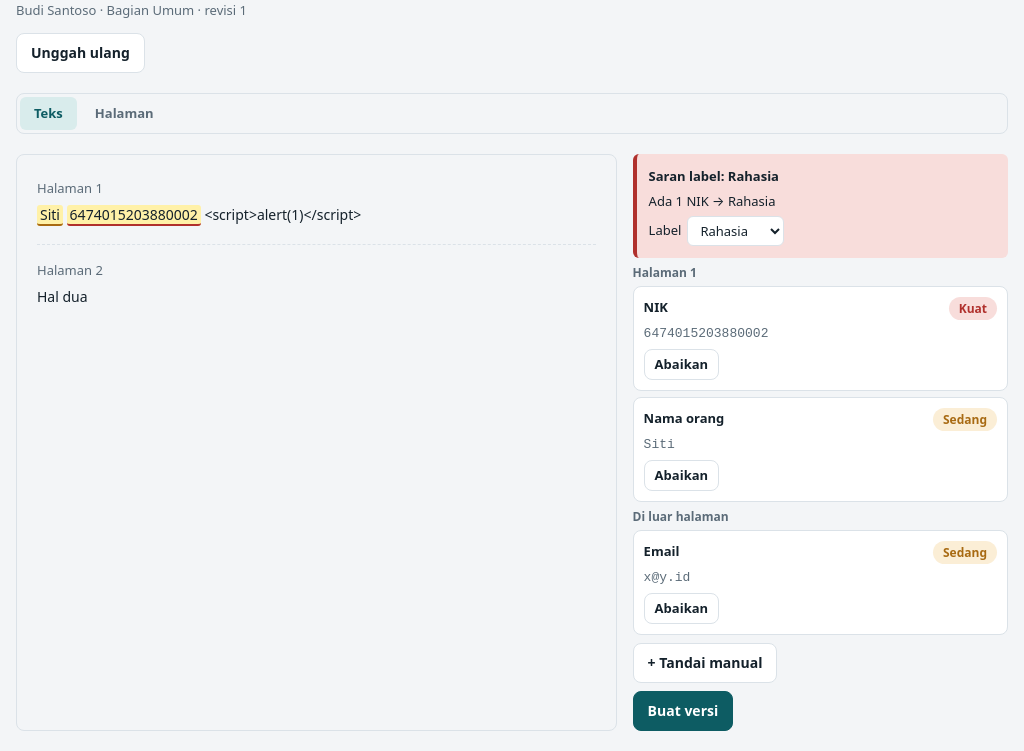
Test: manual add prefilled from selection
(page scrolled)
Expected: the text "Hal dua" is shown, [37,287,88,306]
Click the button "+ Tandai manual": (705, 663) [633,643,777,683]
(page scrolled)
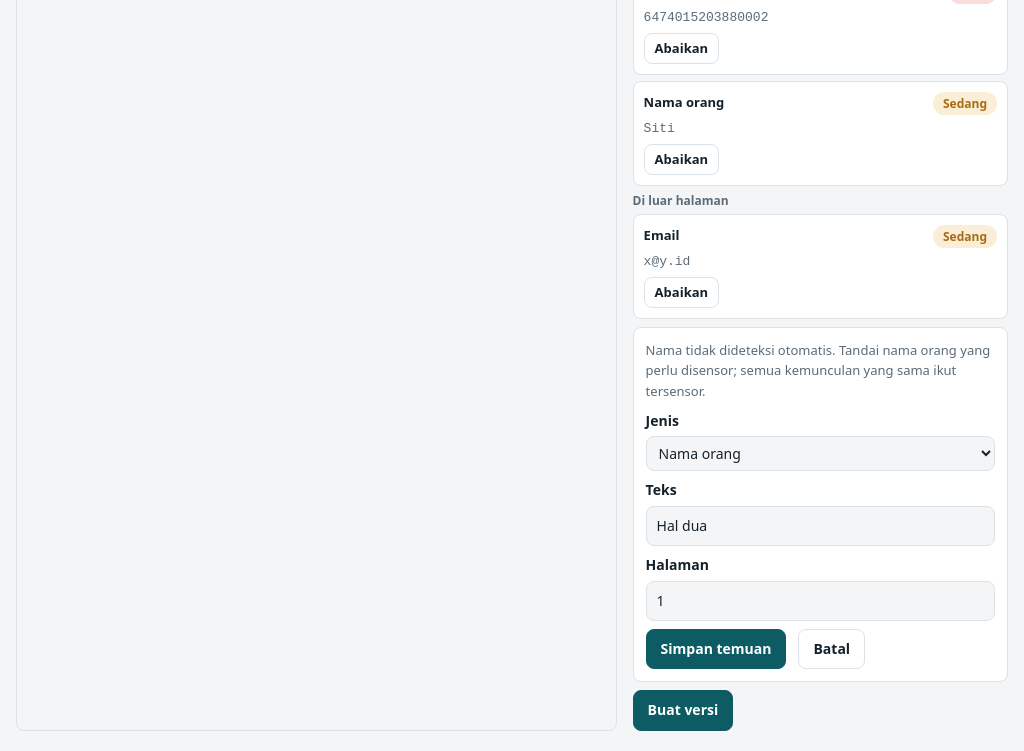
Expected: the field labelled "Teks" holds "Hal dua", [646,506,995,546]
Select "Alamat" in the dropdown labelled "Jenis": (820, 454) [646,436,995,472]
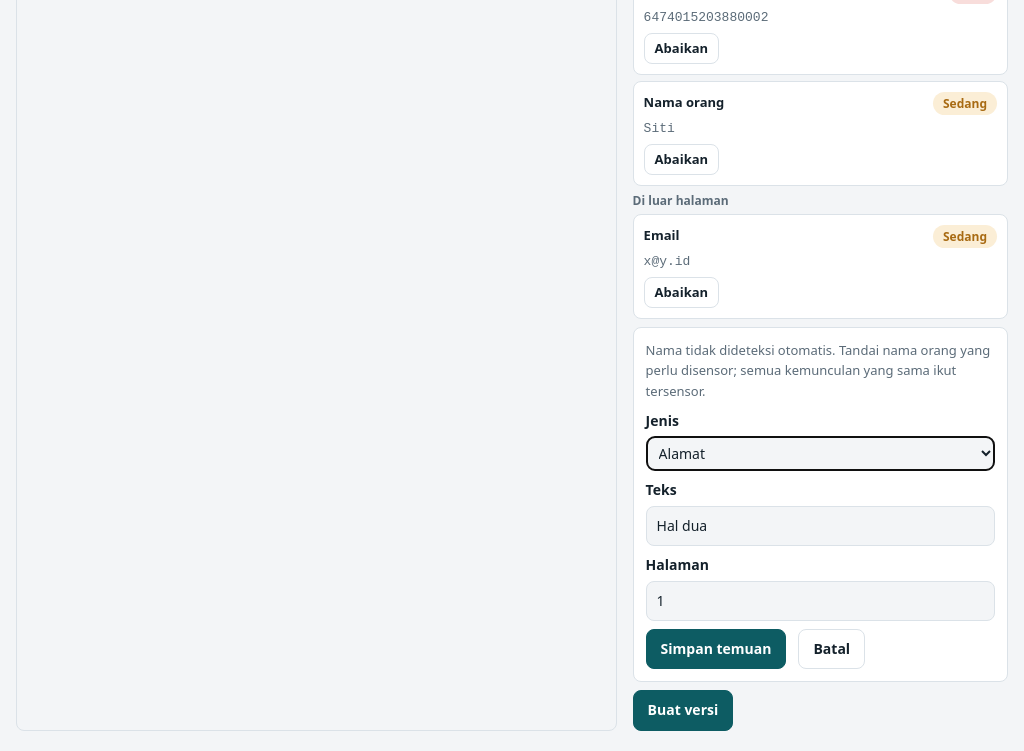
Replace the text in the number field labelled "Halaman" with "2": (820, 601) [646,581,995,621]
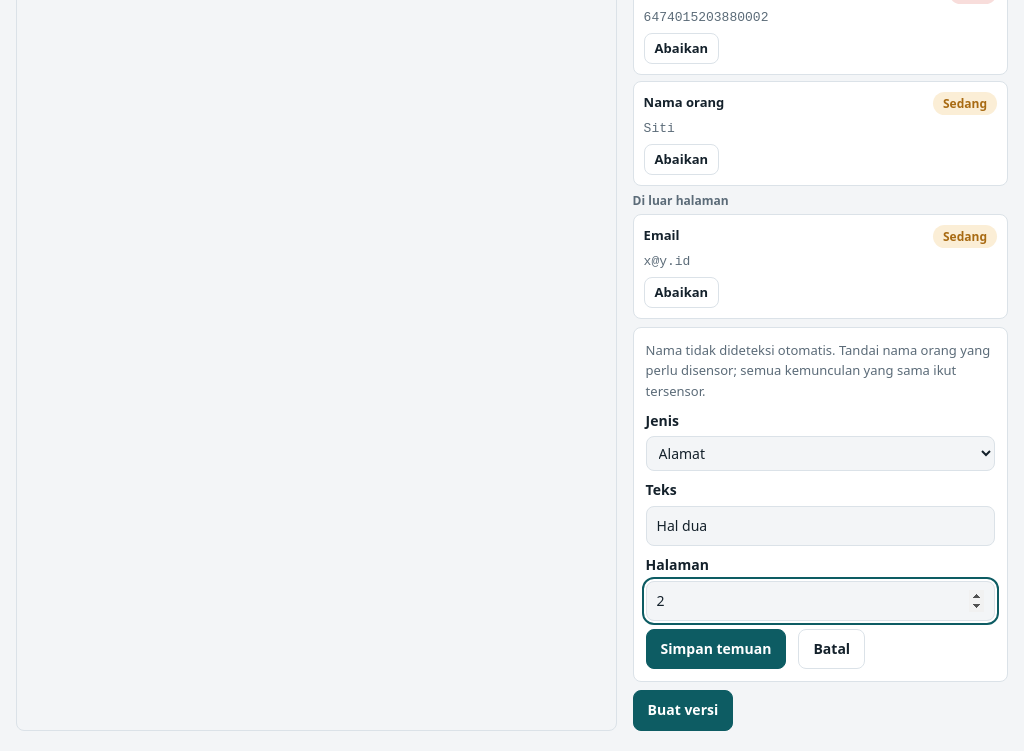
Click the button "Simpan temuan": (716, 649) [646,629,786,669]
(page scrolled)
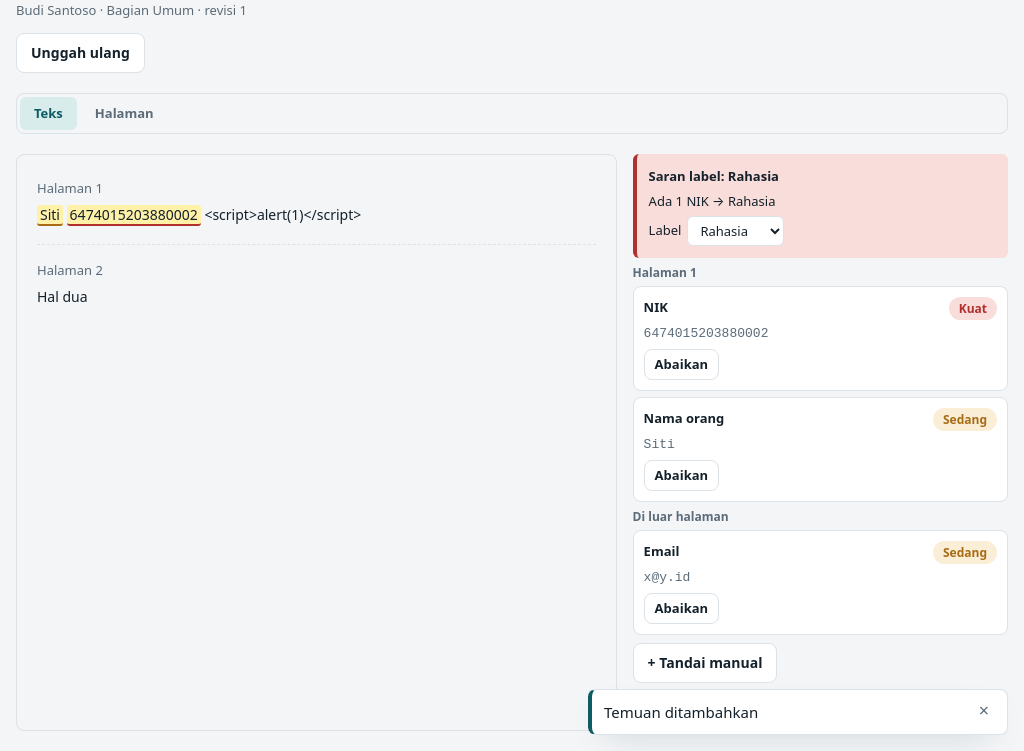
Expected: the text "Temuan ditambahkan" is shown, [604,702,758,722]
